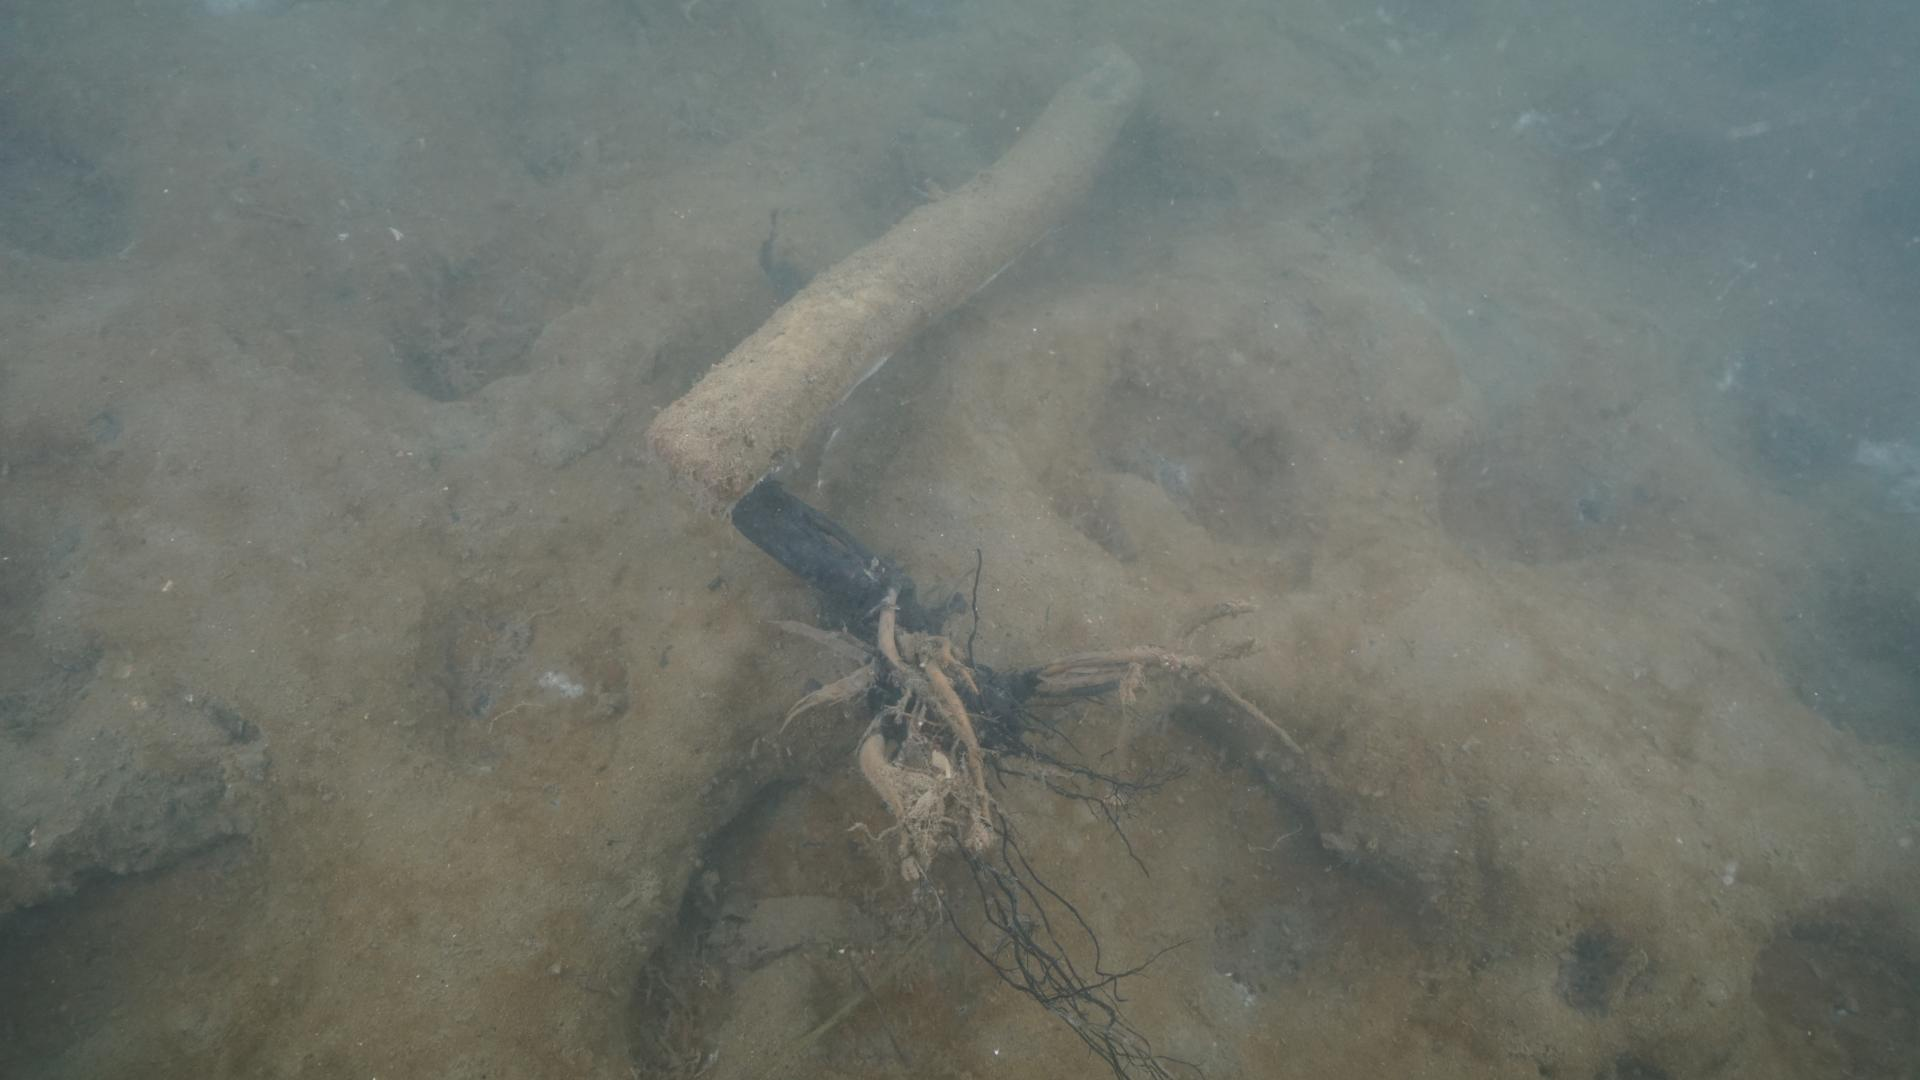wood: (647, 44, 1145, 500)
